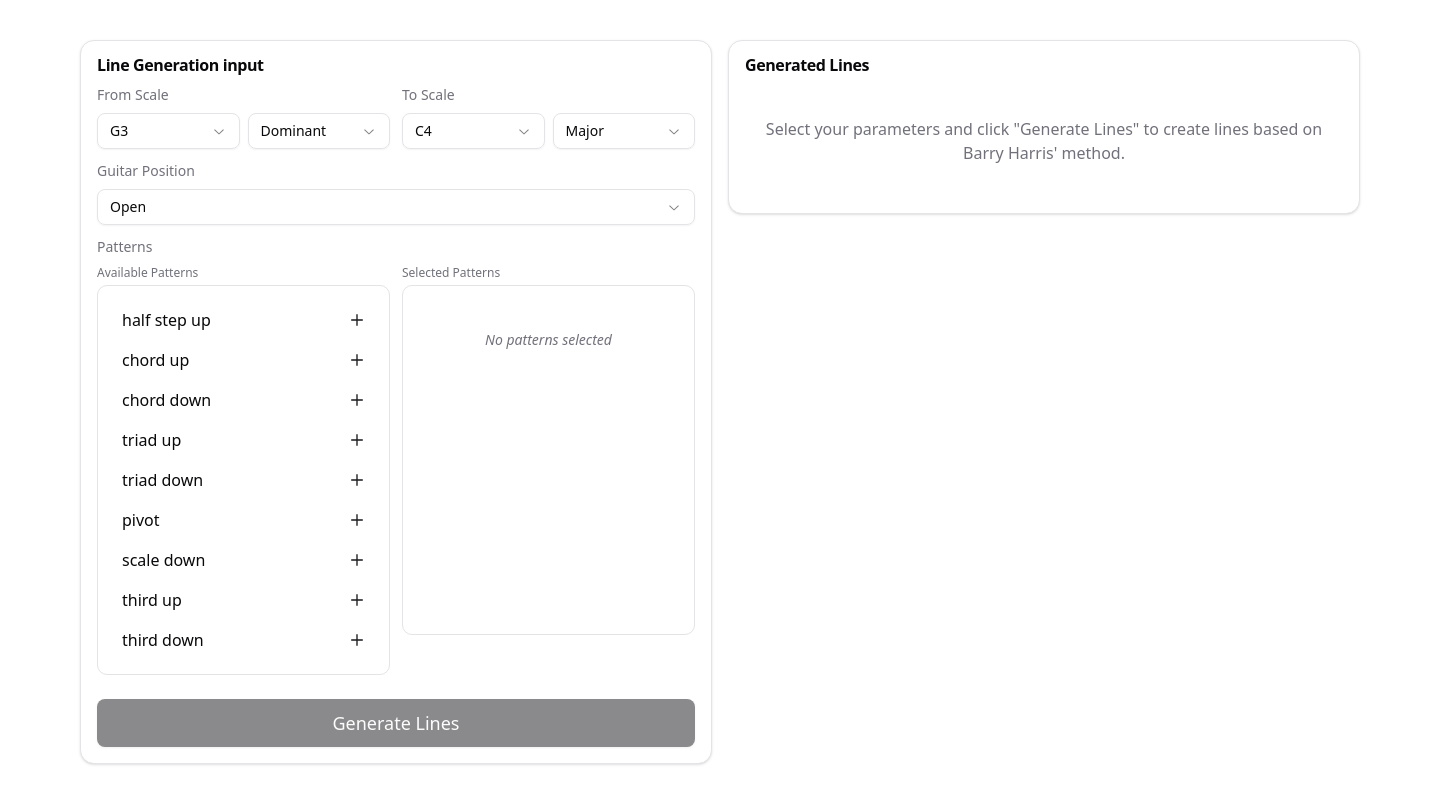
Test: LineGenerator Integration › handles form validation correctly
The width and height of the screenshot is (1440, 810).
Expected: the button "Generate Lines" is disabled, x1=97 y1=699 x2=695 y2=747
Click the element with test id "pattern-item" at (166, 320), box x1=110 y1=302 x2=377 y2=338
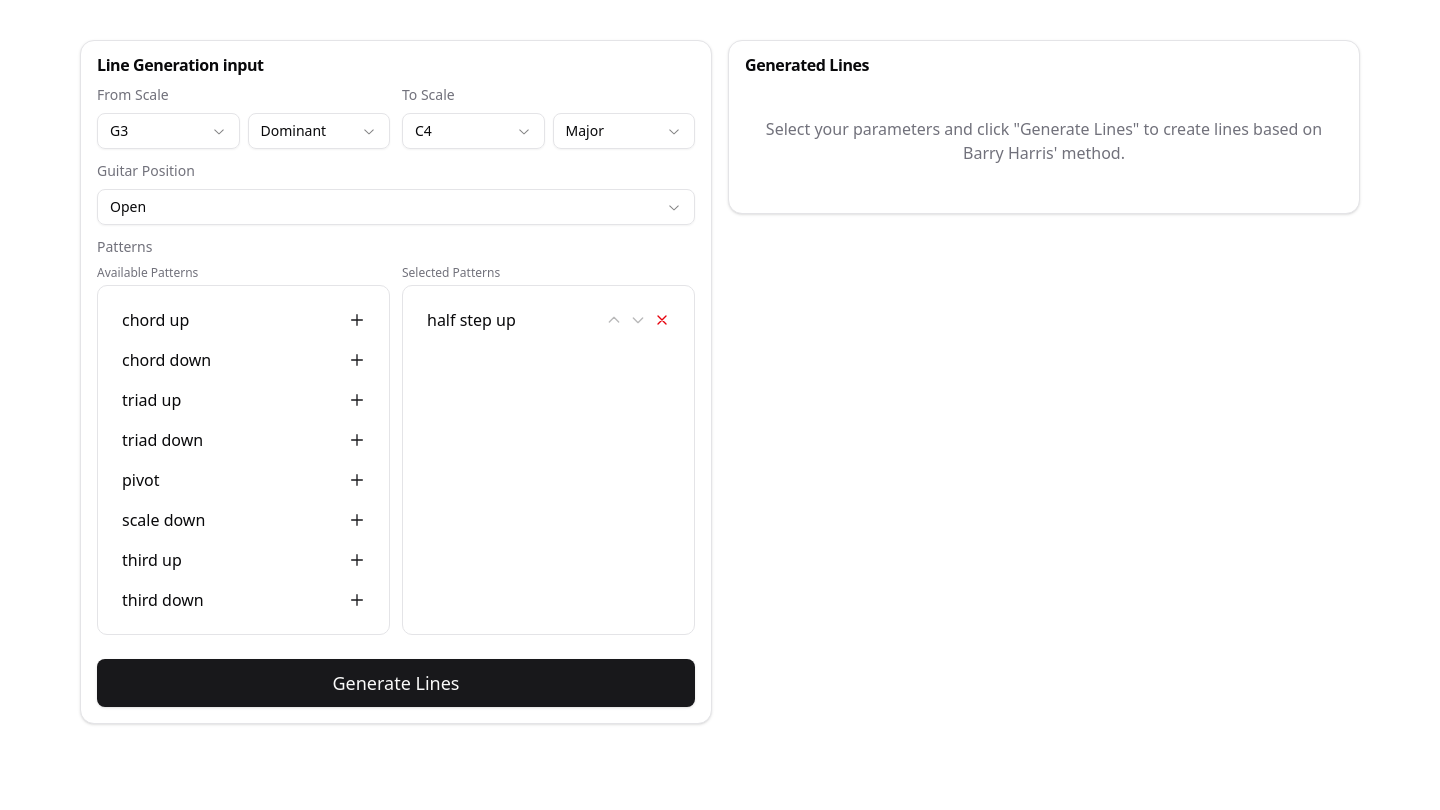
Expected: the button "Generate Lines" is enabled, x1=97 y1=659 x2=695 y2=707
